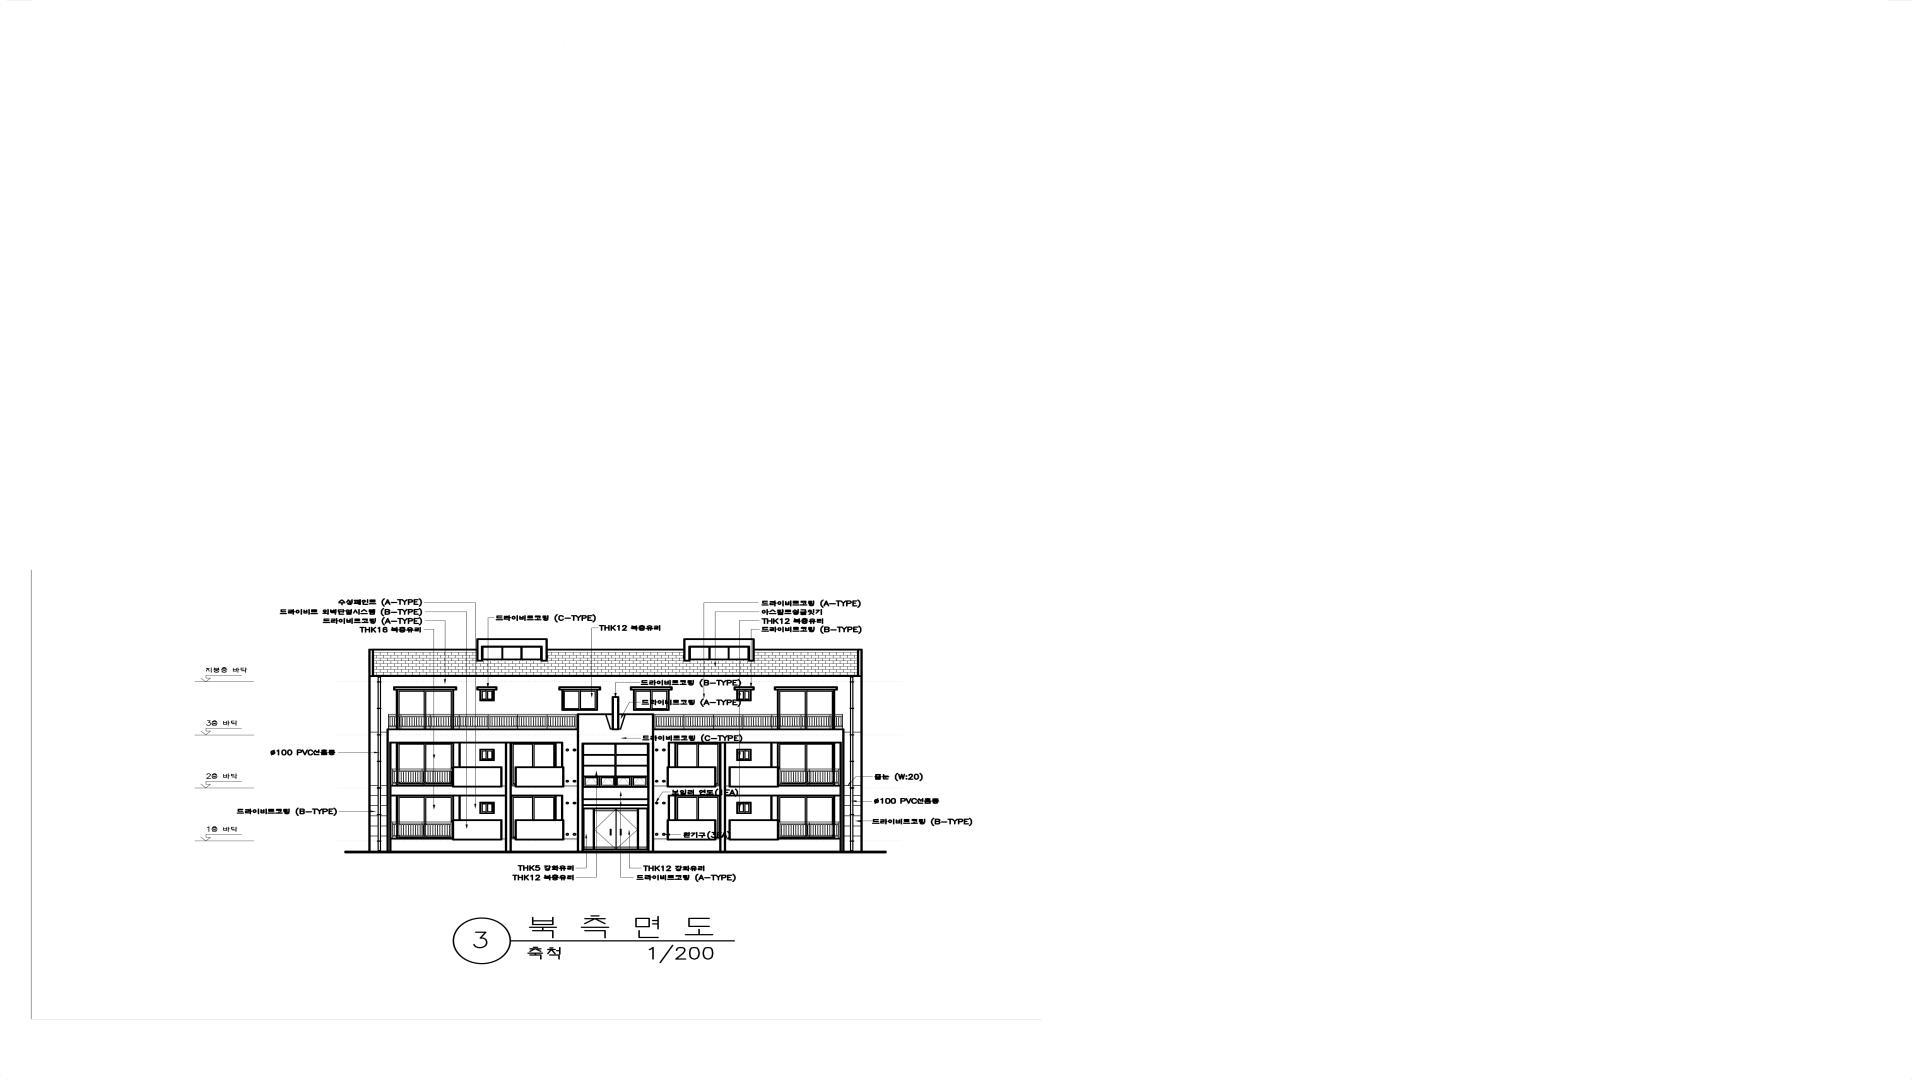door: (592, 807, 640, 851)
wall: (368, 638, 862, 853)
window: (777, 742, 836, 786), (777, 796, 836, 840), (396, 742, 454, 786), (396, 795, 454, 839), (777, 690, 836, 731), (396, 690, 455, 729), (582, 742, 649, 777), (674, 741, 721, 787), (510, 742, 556, 789), (674, 795, 721, 840), (510, 795, 556, 840), (688, 646, 750, 661), (481, 646, 543, 659), (562, 690, 599, 711), (633, 690, 670, 711), (640, 807, 650, 851), (582, 807, 592, 851), (582, 777, 600, 787), (632, 777, 650, 787), (479, 749, 495, 761), (736, 749, 752, 761), (736, 802, 752, 814), (480, 690, 495, 702), (480, 802, 495, 814), (736, 691, 752, 702), (600, 777, 616, 787), (616, 777, 632, 787)
